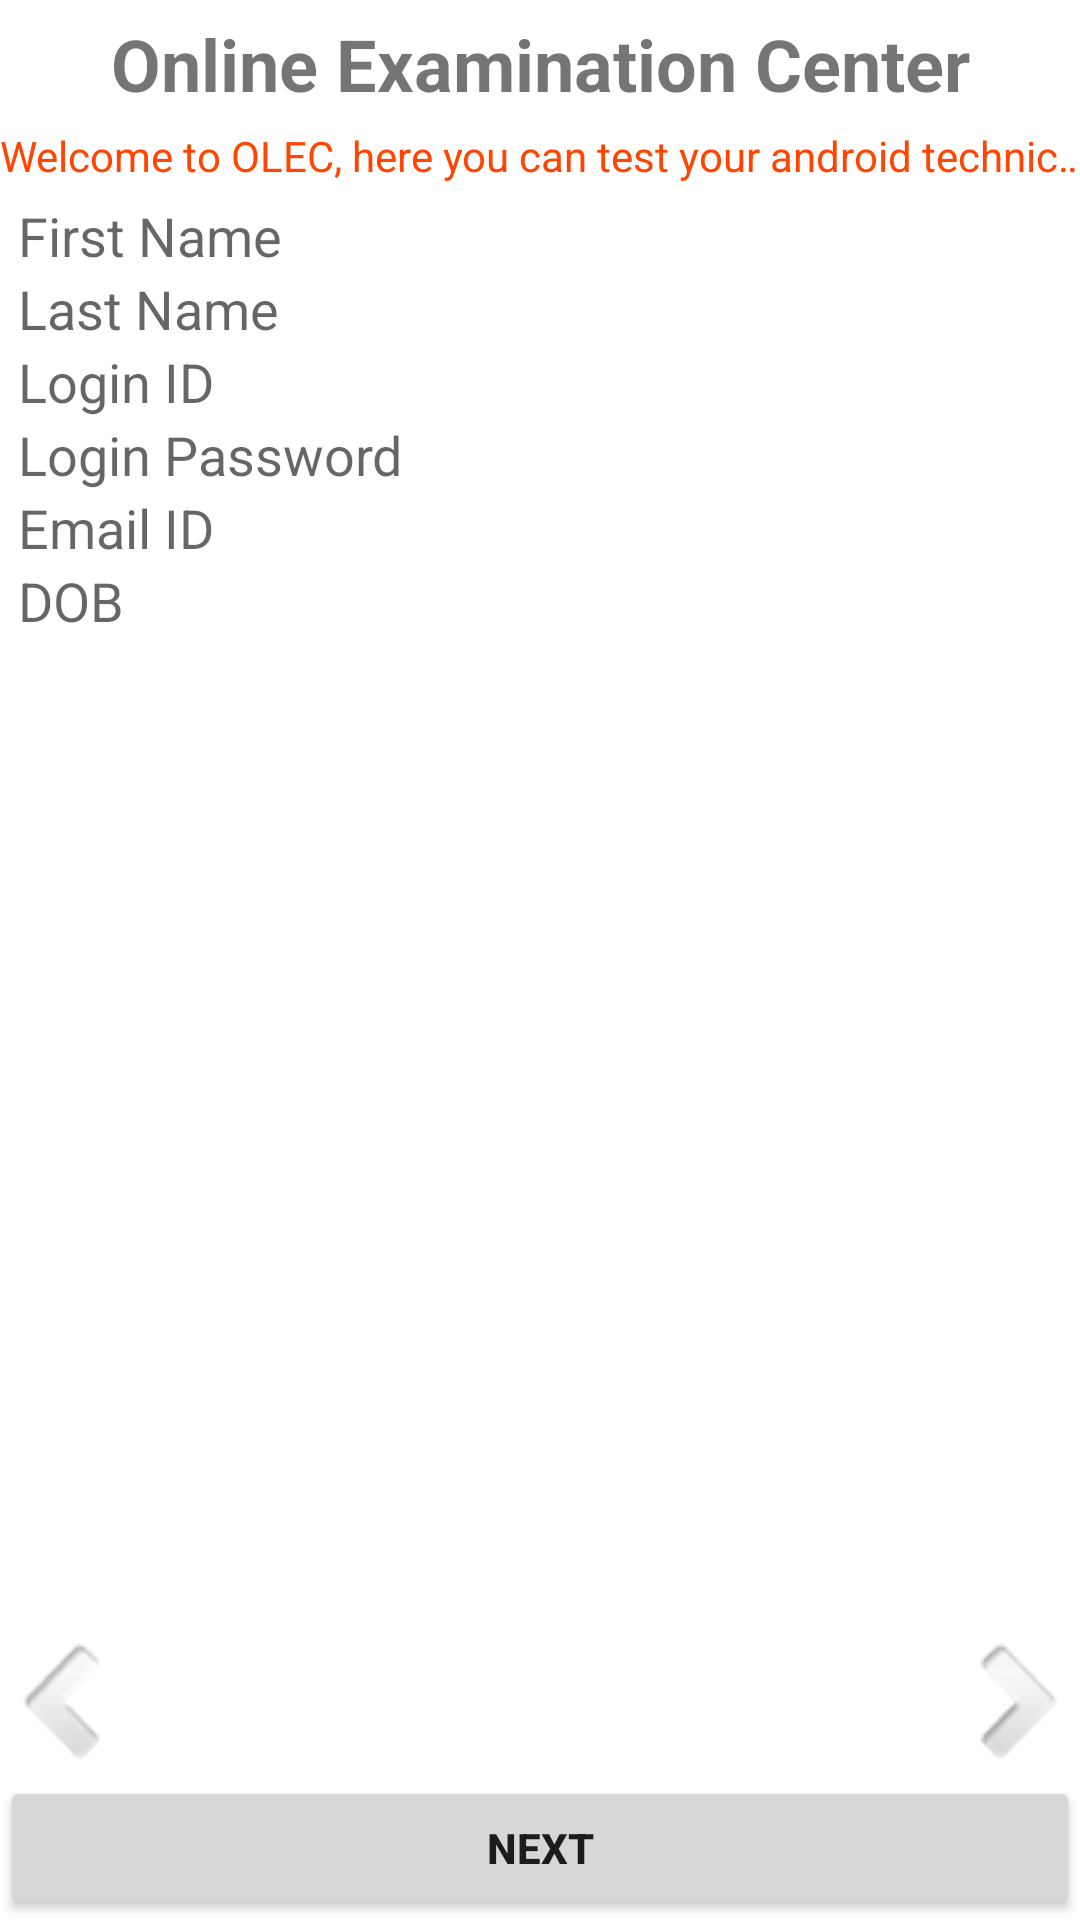

Where icons sit on this 1080 × 1920 app screen, as {"left": x1, "top": y1, "right": x2, "bottom": y2}:
left arrow: {"left": 25, "top": 1645, "right": 99, "bottom": 1756}
right arrow: {"left": 981, "top": 1645, "right": 1055, "bottom": 1756}
